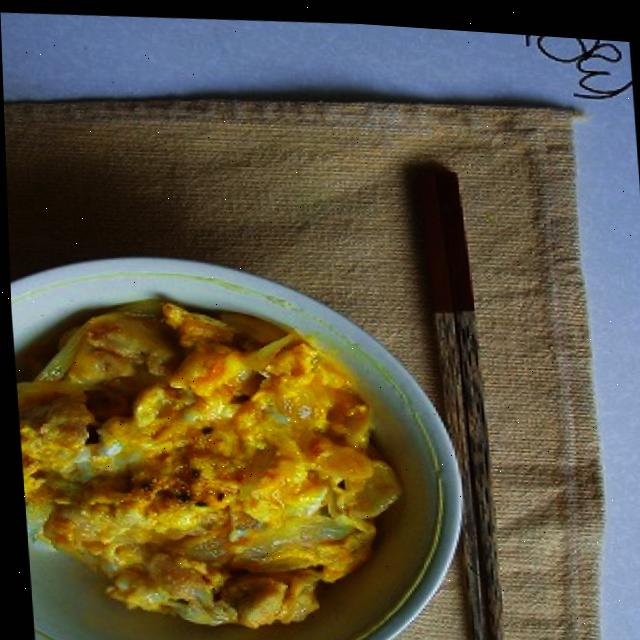米饭主食: (7, 227, 484, 640)
